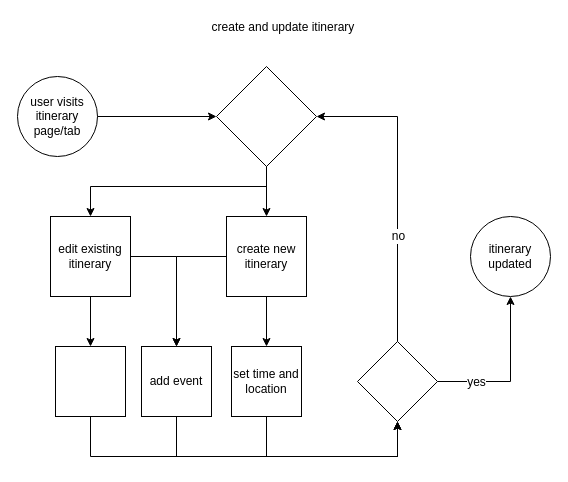
Some shapes in this 568 by 482 pixel diagram are drawn without their labels. The shapes that lost their labels are listed below. From the top down, each one's box as (x1, y1, x2, y2) in pixels, then its label:
(216, 66, 316, 166): make new or edit?
(54, 346, 126, 416): edit details to existing event
(356, 340, 438, 422): done editing?
